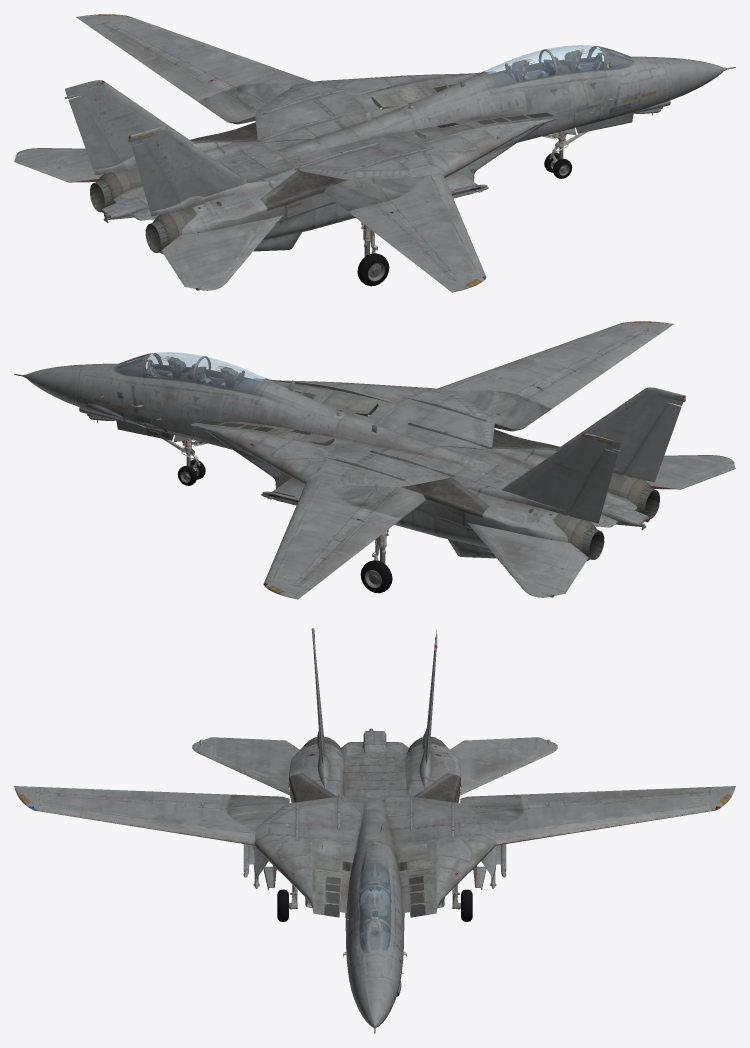
The picture shows the model from 3 angles, top to bottom: view 1: azimuth 30°, elevation 25°; view 2: azimuth 150°, elevation 25°; view 3: azimuth 270°, elevation 25°; orthographic projection. The views are drawn at different scales.
Parts seen in each view (by area): view 1: f14a-airframe_0, wingPivotP_part, wingPivotN_part, f14a-canopyFr_1, f14a-gearOn_4, f14a-cockpit_2; view 2: f14a-airframe_0, wingPivotN_part, wingPivotP_part, f14a-canopyFr_1, f14a-gearOn_4, f14a-cockpit_2; view 3: f14a-airframe_0, wingPivotP_part, wingPivotN_part, f14a-cockpit_2, f14a-canopyFr_1, f14a-gearOn_4.
Part boxes in pixels (x1,y1,x2,y2): f14a-airframe_0: (14,46,735,290); wingPivotP_part: (195,161,486,292); wingPivotN_part: (15,14,324,156); f14a-canopyFr_1: (484,45,633,86); f14a-gearOn_4: (357,112,633,286); f14a-cockpit_2: (488,46,633,86); f14a-airframe_0: (14,353,735,597); wingPivotN_part: (263,468,554,599); wingPivotP_part: (425,321,734,463); f14a-canopyFr_1: (116,352,265,393); f14a-gearOn_4: (116,419,392,593); f14a-cockpit_2: (116,353,261,393); f14a-airframe_0: (192,628,557,1033); wingPivotP_part: (14,739,288,845); wingPivotN_part: (461,739,735,845); f14a-cockpit_2: (358,864,391,950); f14a-canopyFr_1: (358,864,391,950); f14a-gearOn_4: (263,865,486,921).
Size of the model in its own units: 192 by 55.65 by 195.
3 materials, 2 textured.
